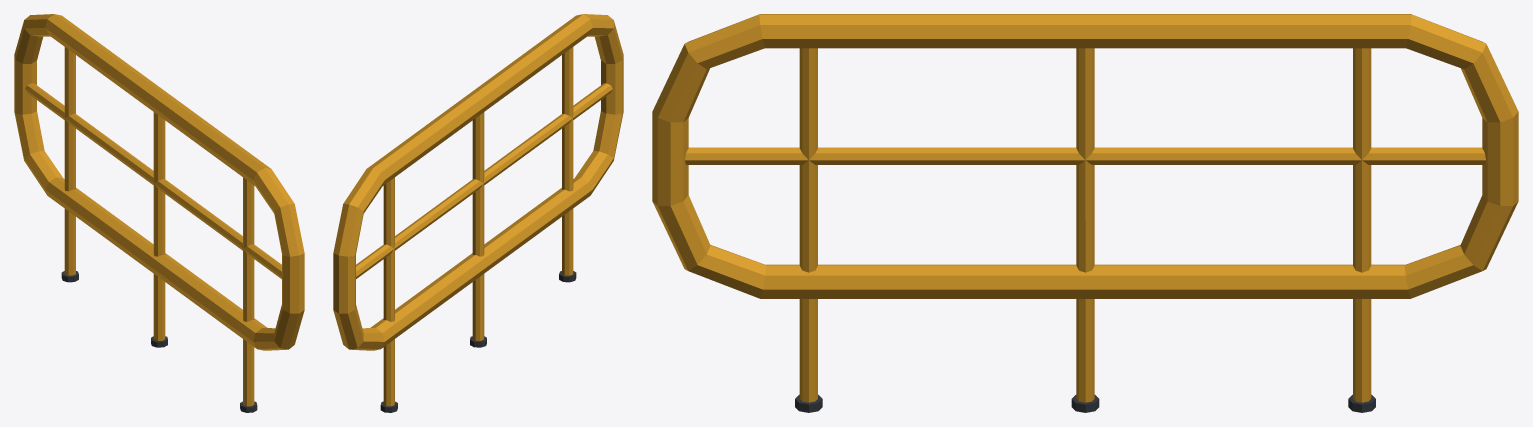
File: Railing_Straight_Single.fbx
The picture shows the model from 3 angles, left to right: view 1: azimuth 30°, elevation 25°; view 2: azimuth 150°, elevation 25°; view 3: azimuth 270°, elevation 25°; orthographic projection. The views are drawn at different scales.
Parts seen in each view (by area): view 1: Railing_Straight_Single; view 2: Railing_Straight_Single; view 3: Railing_Straight_Single.
Boxes of the visible parts, x1=… form: Railing_Straight_Single: x1=14, y1=14, x2=304, y2=412; Railing_Straight_Single: x1=333, y1=14, x2=623, y2=412; Railing_Straight_Single: x1=652, y1=14, x2=1518, y2=412.
Bounding box in the file's own units: 8 × 93.92 × 188.
